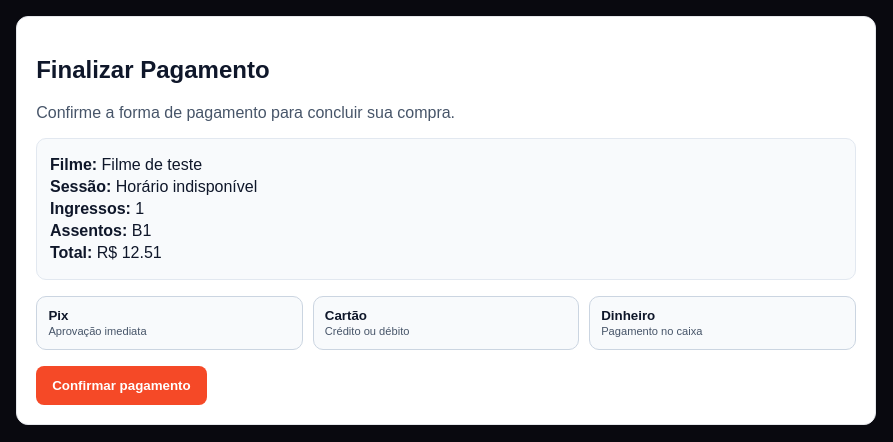
Test case: restaura o checkout a partir da URL, usa o preço da API e não repete pagamento já gravado
Check: the text "R$ 12.51" is shown, box left=50, top=244, right=162, bottom=261
Click the radio button labelled "Pix Aprovação imediata". click: click(97, 331)
box: left=36, top=296, right=303, bottom=350
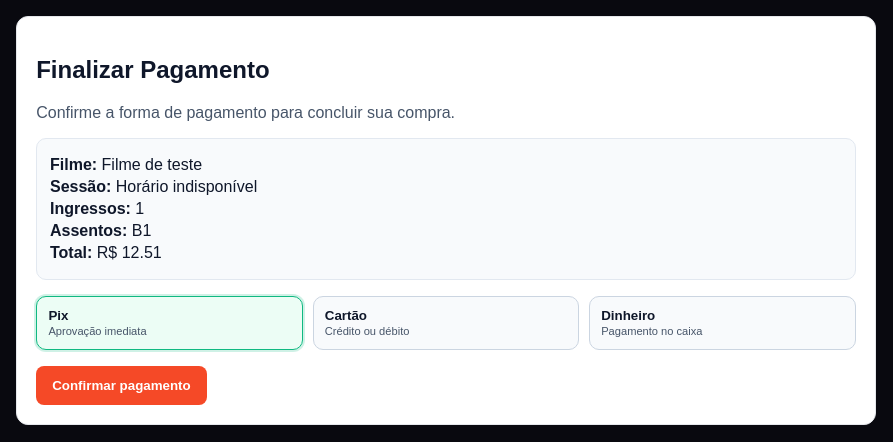
Click the button "Confirmar pagamento". click: click(121, 386)
box: left=36, top=366, right=207, bottom=405
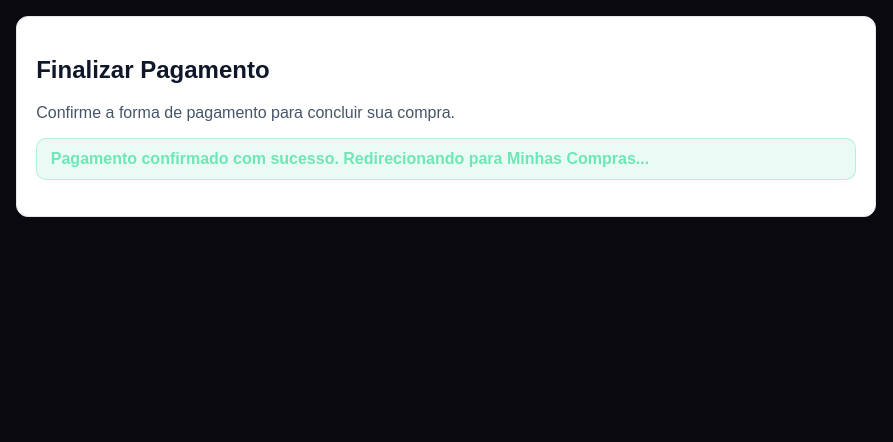
Check: the text "Pagamento confirmado com sucesso. Redirecionando para Minhas Compras..." is shown, box left=36, top=138, right=856, bottom=180
